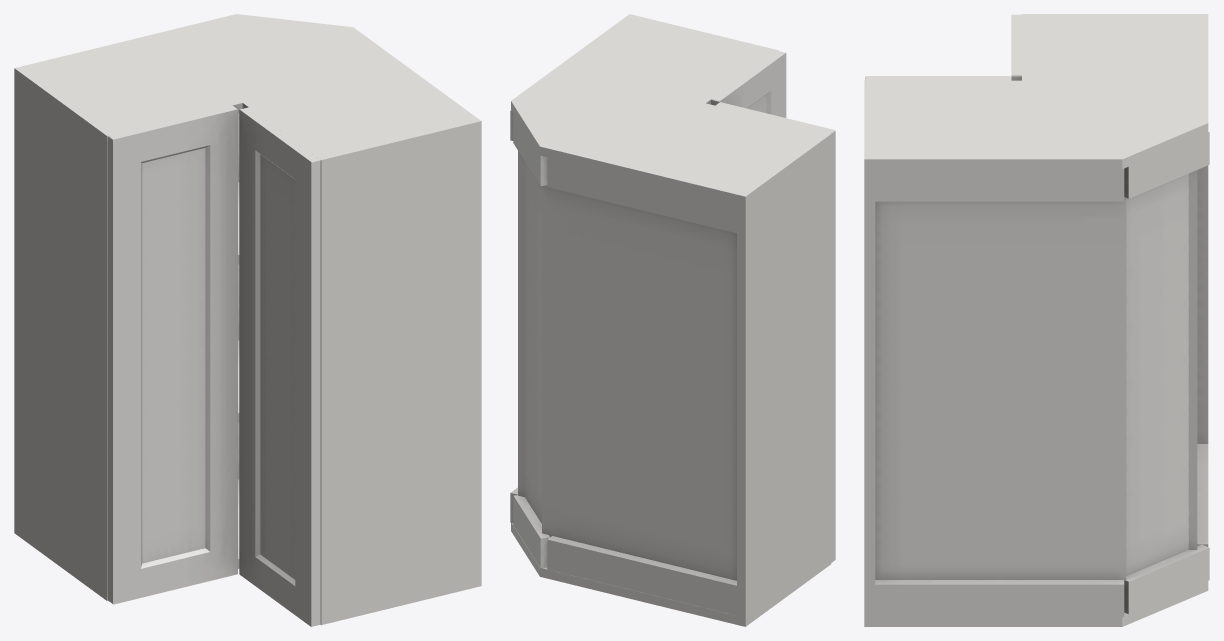
The model's file is wall-90-corner-doors-on.glb.
3 views of the same model, side by side, from view 1: azimuth 30°, elevation 25°; view 2: azimuth 150°, elevation 25°; view 3: azimuth 270°, elevation 25° (orthographic). The views are drawn at different scales.
Parts seen in each view (by area): view 1: part_0, part_15; view 2: part_0, part_15; view 3: part_0, part_15.
Boxes of the visible parts, bbox=[...] form: part_0: bbox=[14, 14, 481, 625]; part_15: bbox=[107, 105, 320, 626]; part_0: bbox=[510, 14, 831, 626]; part_15: bbox=[711, 50, 835, 562]; part_0: bbox=[864, 14, 1209, 626]; part_15: bbox=[865, 14, 1021, 80].
Bounding box in the file's own units: 0.6096 × 0.9144 × 0.6114.
Materials: 2 (2 with a texture image).
